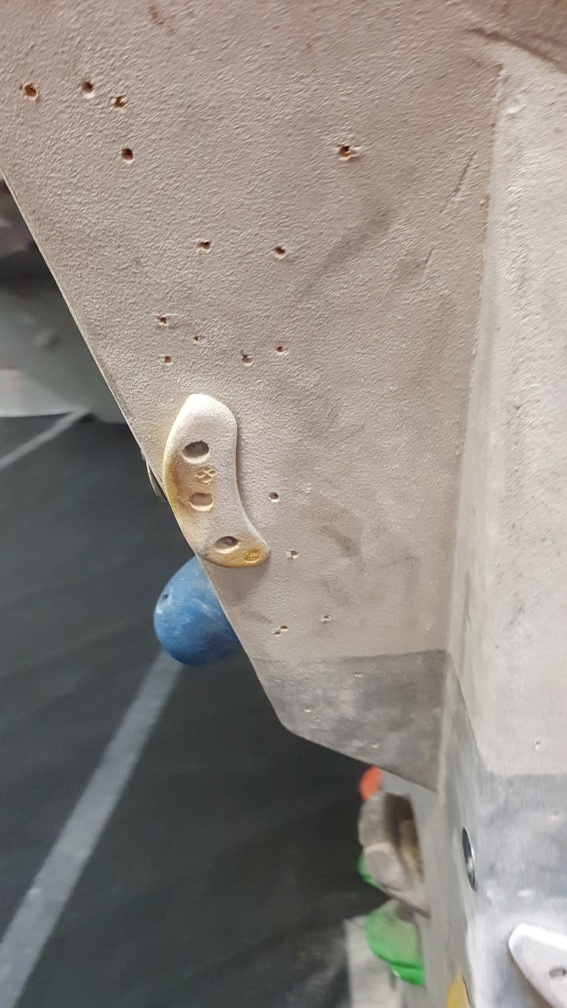Crimp: (159, 398, 277, 577)
Hand Start: (455, 822, 480, 890)
Jug: (352, 784, 440, 917)
